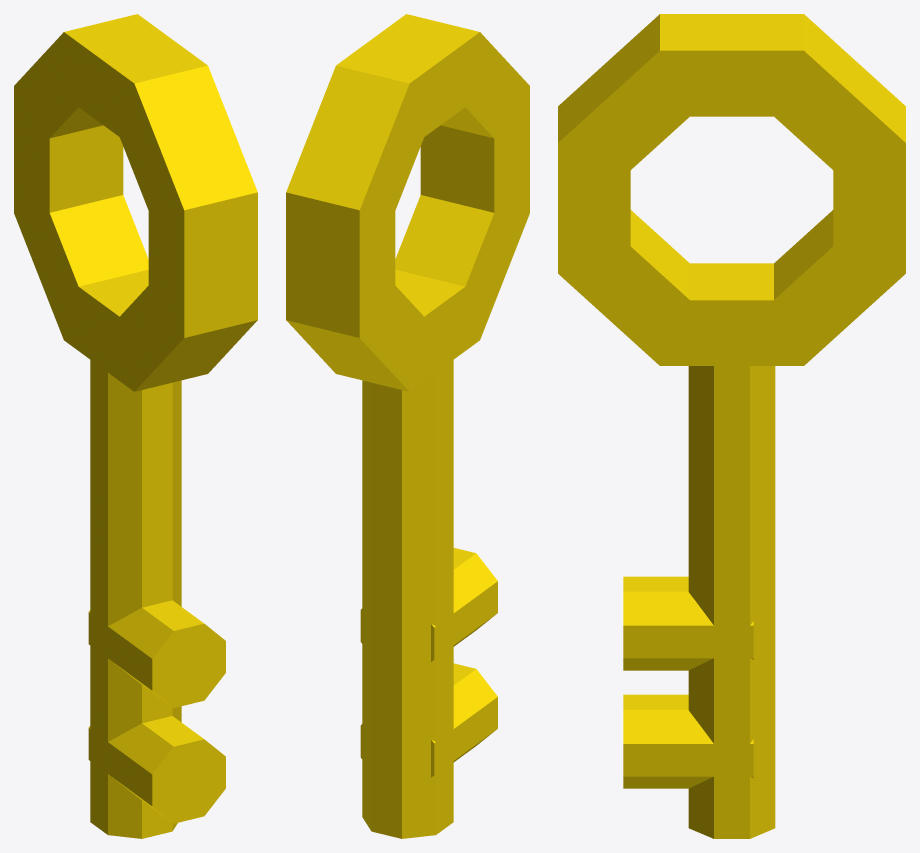
File: Key.fbx
3 renders of one model, left to right at view 1: azimuth 30°, elevation 25°; view 2: azimuth 150°, elevation 25°; view 3: azimuth 270°, elevation 25°, orthographic. The views are drawn at different scales.
Parts seen in each view (by area): view 1: tube, cylinder, cylinder_2, cylinder_1; view 2: tube, cylinder, cylinder_1, cylinder_2; view 3: tube, cylinder, cylinder_1, cylinder_2.
Part boxes in pixels (box(x1,y1,x2,y2)): tube: box(14, 14, 257, 391); cylinder: box(90, 360, 181, 838); cylinder_2: box(88, 600, 225, 707); cylinder_1: box(88, 716, 225, 823); tube: box(286, 14, 529, 391); cylinder: box(362, 360, 453, 838); cylinder_1: box(360, 663, 497, 777); cylinder_2: box(360, 548, 497, 661); tube: box(558, 14, 905, 365); cylinder: box(688, 366, 775, 838); cylinder_1: box(623, 694, 753, 788); cylinder_2: box(623, 576, 753, 670).
Bounding box in the file's own units: 6.25 × 62.5 × 25.
Materials: 1 (1 with a texture image).
